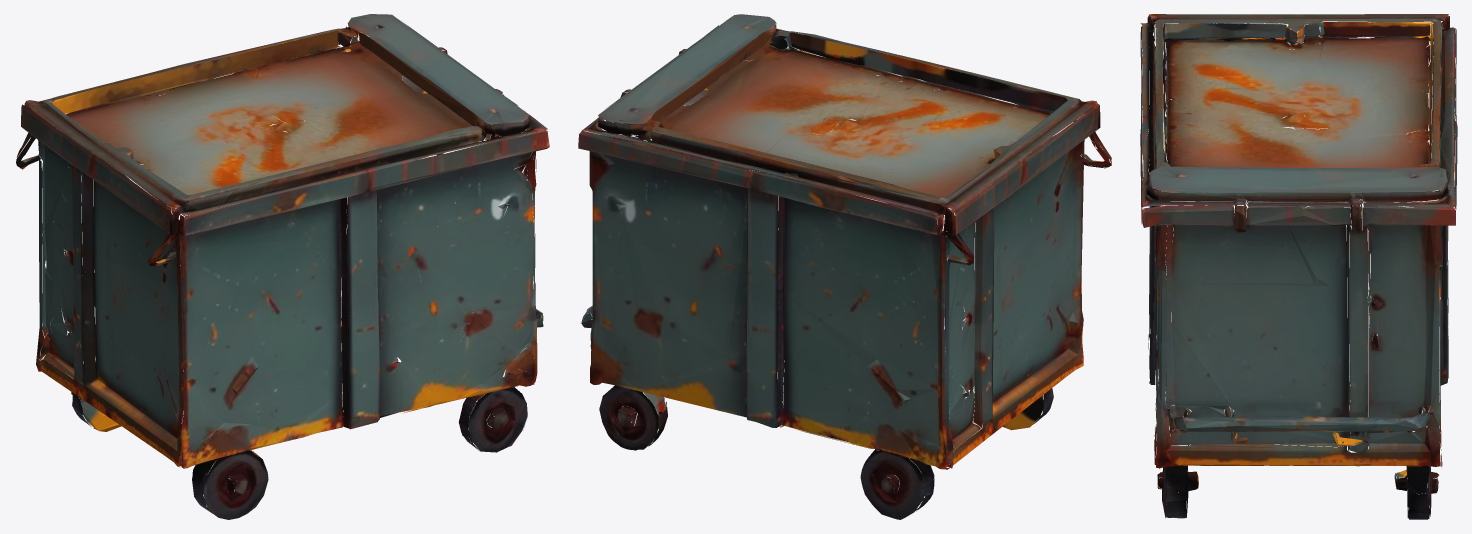
File: dumpster.glb
3 views of the same model, side by side, from view 1: azimuth 30°, elevation 25°; view 2: azimuth 150°, elevation 25°; view 3: azimuth 270°, elevation 25° (orthographic). The views are drawn at different scales.
Visible parts, largest first — view 1: prop; view 2: prop; view 3: prop.
Part boxes in pixels (x1=…): prop: x1=16, y1=14, x2=549, y2=519; prop: x1=578, y1=14, x2=1111, y2=519; prop: x1=1140, y1=14, x2=1457, y2=519.
Size of the model in its own units: 0.92 by 0.7309 by 0.609.
Materials: 1 (1 with a texture image).
